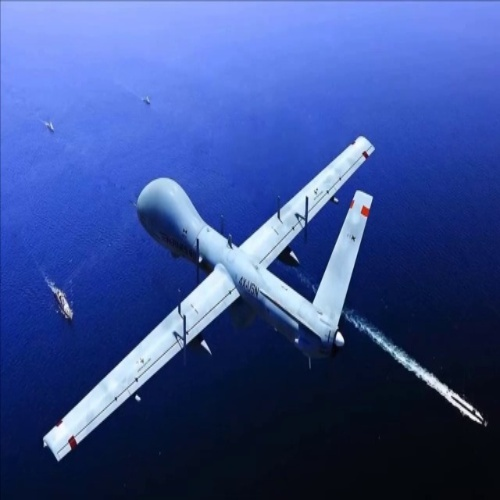uav792: (43, 137, 378, 454)
